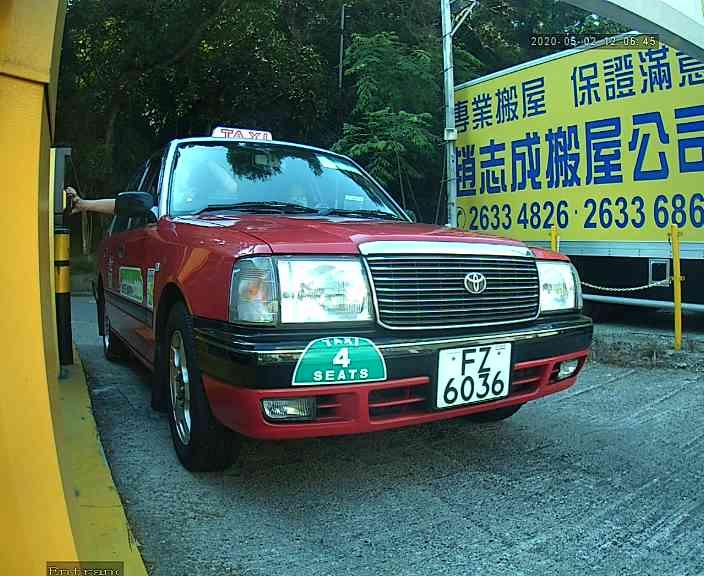Car: (70, 31, 617, 481)
License Plate: (422, 343, 513, 409)
